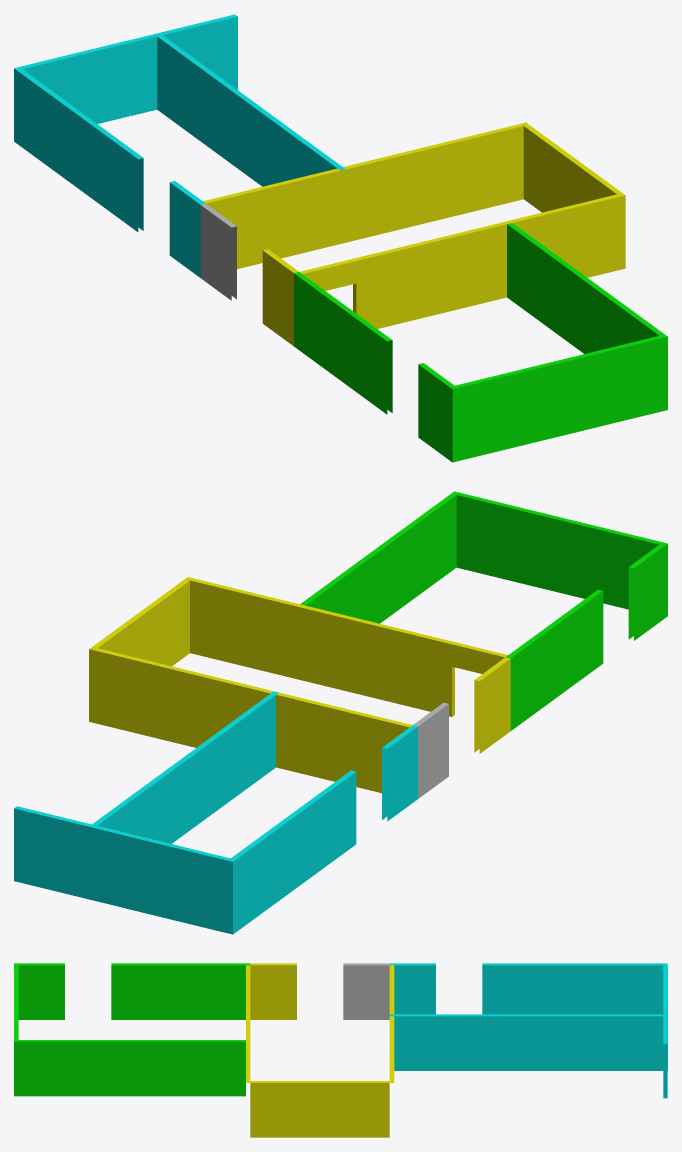
Rendered from WallGrp.fbx.
The picture shows the model from 3 angles, top to bottom: view 1: azimuth 30°, elevation 25°; view 2: azimuth 150°, elevation 25°; view 3: azimuth 270°, elevation 25°; orthographic projection. The views are drawn at different scales.
Parts seen in each view (by area): view 1: WallRoom1Half1, WallRoom2__2, WallRoom1Half2, WallRoom2__3, WallRoom2__1, WallRoom2__6, WallRoom2__5, WallRoom3_3, WallRoom3_1, WallRoom3_4, WallDoor, WallRoom1Half4 (+13 smaller); view 2: WallRoom3_3, WallRoom2__1, WallRoom2__3, WallRoom2__5, WallRoom1Half2, WallRoom3_4, WallRoom2__6, WallRoom1Half1, WallRoom3_2, WallDoor, WallRoom2__2, WallRoom1Half5 (+14 smaller); view 3: WallRoom1Half3, WallRoom1Half4, WallRoom2__4, WallRoom3_6, WallRoom3_5, WallRoom1Half5, WallRoom3_7, WallRoom3_1, WallRoom3_2, WallRoom1_1, WallRoom1_2, WallRoom2Half1 (+5 smaller).
Part boxes in pixels (<box>): WallRoom1Half1: <box>449,361,560,462</box>; WallRoom2__2: <box>311,149,421,250</box>; WallRoom1Half2: <box>557,334,667,435</box>; WallRoom2__3: <box>418,122,528,224</box>; WallRoom2__1: <box>407,219,517,320</box>; WallRoom2__6: <box>203,175,313,269</box>; WallRoom2__5: <box>515,193,625,277</box>; WallRoom3_3: <box>20,40,129,123</box>; WallRoom3_1: <box>76,112,143,231</box>; WallRoom3_4: <box>127,14,237,115</box>; WallDoor: <box>299,245,409,328</box>; WallRoom1Half4: <box>507,223,574,342</box>; WallRoom3_3: <box>120,832,230,933</box>; WallRoom2__1: <box>291,603,400,703</box>; WallRoom2__3: <box>89,647,198,747</box>; WallRoom2__5: <box>185,577,293,677</box>; WallRoom1Half2: <box>451,491,560,592</box>; WallRoom3_4: <box>14,806,123,906</box>; WallRoom2__6: <box>303,699,412,793</box>; WallRoom1Half1: <box>558,517,667,617</box>; WallRoom3_2: <box>227,815,294,934</box>; WallDoor: <box>398,629,507,716</box>; WallRoom2__2: <box>196,673,305,773</box>; WallRoom1Half5: <box>505,612,572,730</box>; WallRoom1Half3: <box>60,1040,152,1096</box>; WallRoom1Half4: <box>153,1040,245,1096</box>; WallRoom2__4: <box>297,1081,389,1137</box>; WallRoom3_6: <box>482,1014,574,1070</box>; WallRoom3_5: <box>575,1014,667,1070</box>; WallRoom1Half5: <box>157,963,250,1019</box>; WallRoom3_7: <box>389,1014,482,1070</box>; WallRoom3_1: <box>482,963,574,1014</box>; WallRoom3_2: <box>575,963,667,1014</box>; WallRoom1_1: <box>18,963,64,1019</box>; WallRoom1_2: <box>111,963,157,1019</box>; WallRoom2Half1: <box>250,963,296,1019</box>.
Bounding box in the file's own units: 15.25 × 3.25 × 35.26.
